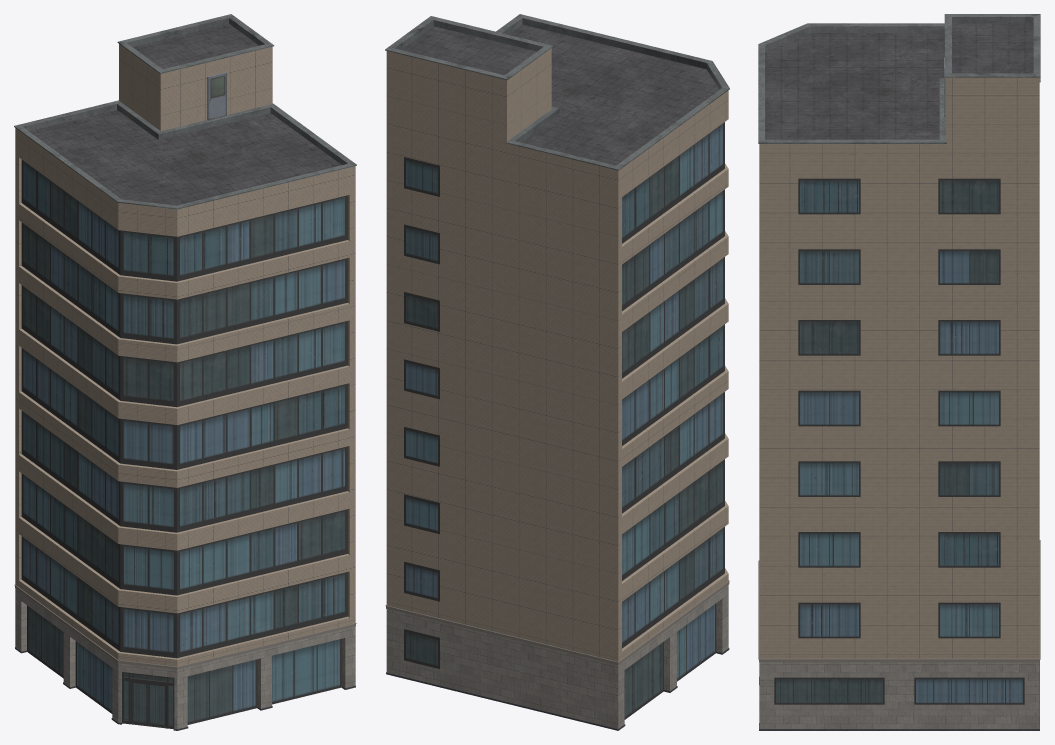
Rendered from jctBld12_A_low.fbx.
3 views of the same model, side by side, from view 1: azimuth 30°, elevation 25°; view 2: azimuth 150°, elevation 25°; view 3: azimuth 270°, elevation 25° (orthographic). The views are drawn at different scales.
Visible parts, largest first — view 1: jctBld12_A_low; view 2: jctBld12_A_low; view 3: jctBld12_A_low.
Boxes of the visible parts, <box> form: jctBld12_A_low: <box>14,14,356,730</box>; jctBld12_A_low: <box>385,14,729,730</box>; jctBld12_A_low: <box>758,14,1040,730</box>.
Size of the model in its own units: 1160 by 2965 by 1160.
